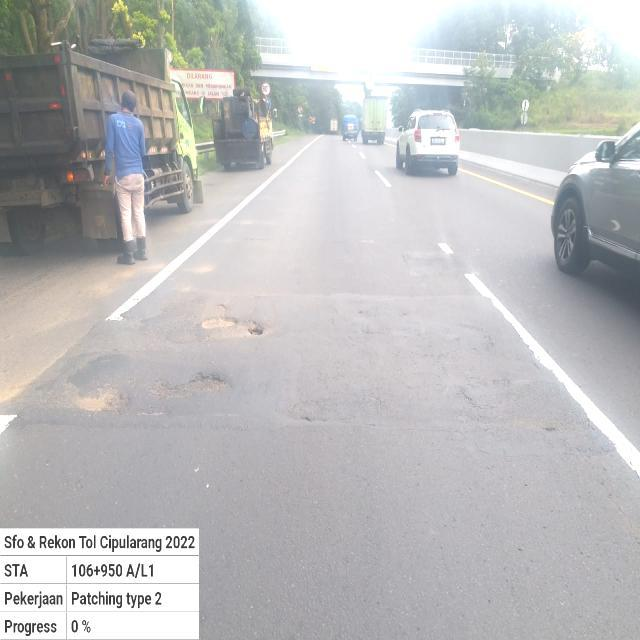Buraco: (146, 372, 230, 402), (67, 383, 131, 416), (197, 315, 240, 332), (244, 319, 267, 337), (214, 302, 229, 314)
